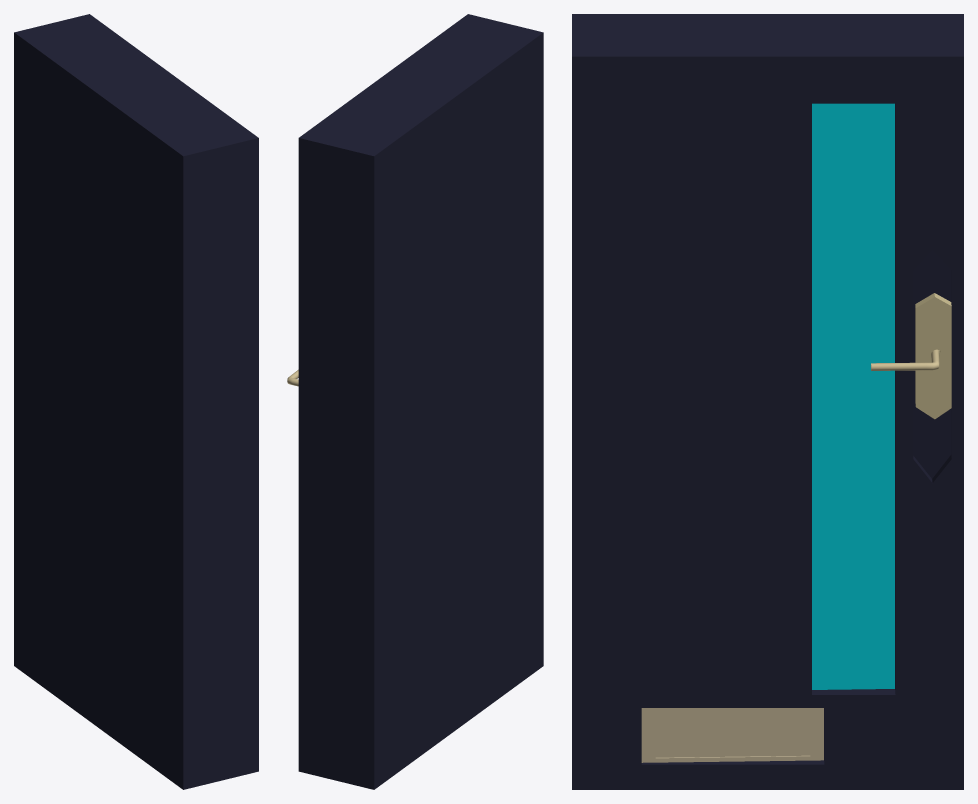
Rendered from HouseDoor1.fbx.
3 views of the same model, side by side, from view 1: azimuth 30°, elevation 25°; view 2: azimuth 150°, elevation 25°; view 3: azimuth 270°, elevation 25° (orthographic). The views are drawn at different scales.
Parts seen in each view (by area): view 1: Cube.026; view 2: Cube.026; view 3: Cube.026, Cube.024.
Boxes of the visible parts, x1=… form: Cube.026: x1=14, y1=14, x2=258, y2=789; Cube.026: x1=298, y1=14, x2=543, y2=789; Cube.026: x1=572, y1=14, x2=963, y2=789; Cube.024: x1=812, y1=103, x2=894, y2=689.
Bounding box in the file's own units: 69.1 × 413 × 200.
